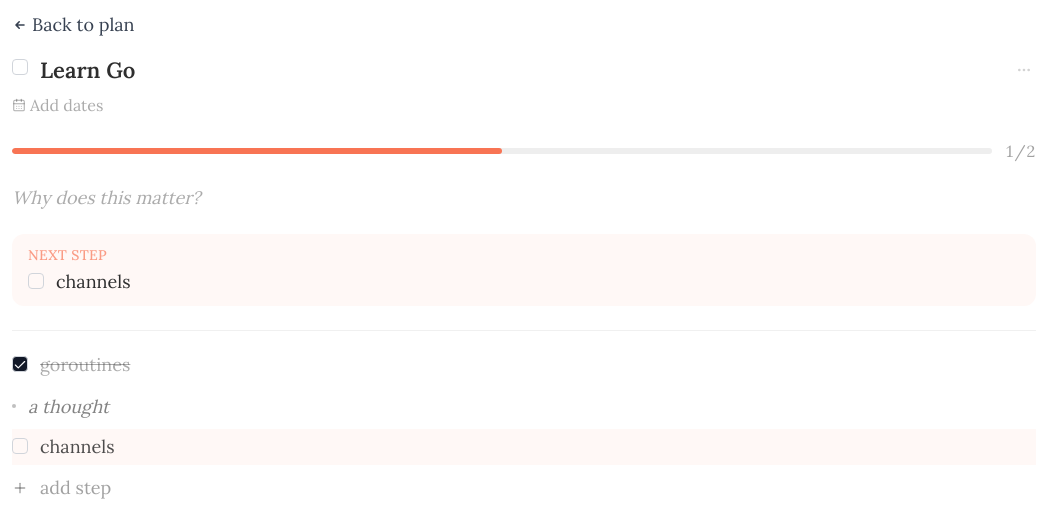
MilestonePage steps and next step › rename (R30) › should save on Enter, and the next-step slot shows the new text too
Click the button "channels" at (77, 446), box left=40, top=435, right=1036, bottom=459
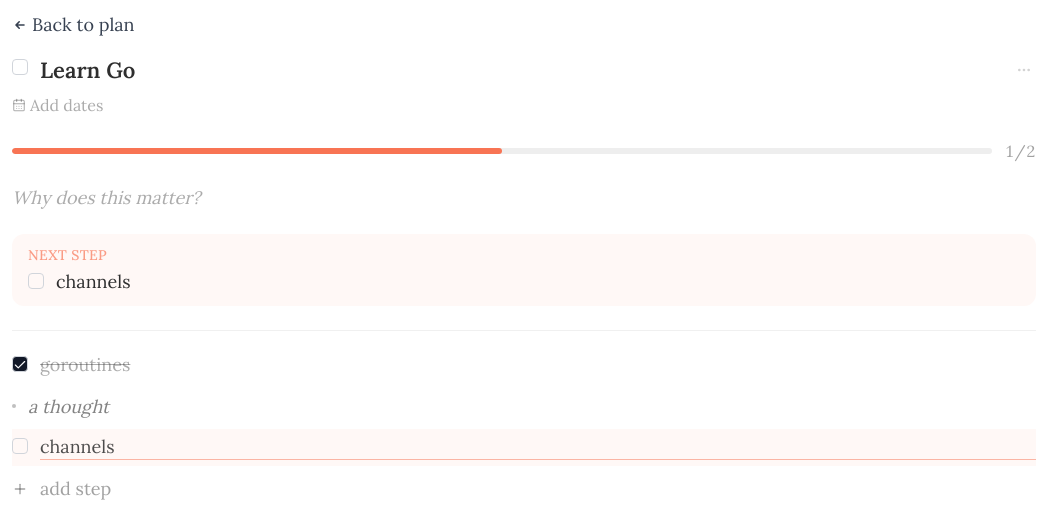
Replace the text in the field named "Rename channels" with "  chans  " at (538, 448), box left=40, top=435, right=1036, bottom=460
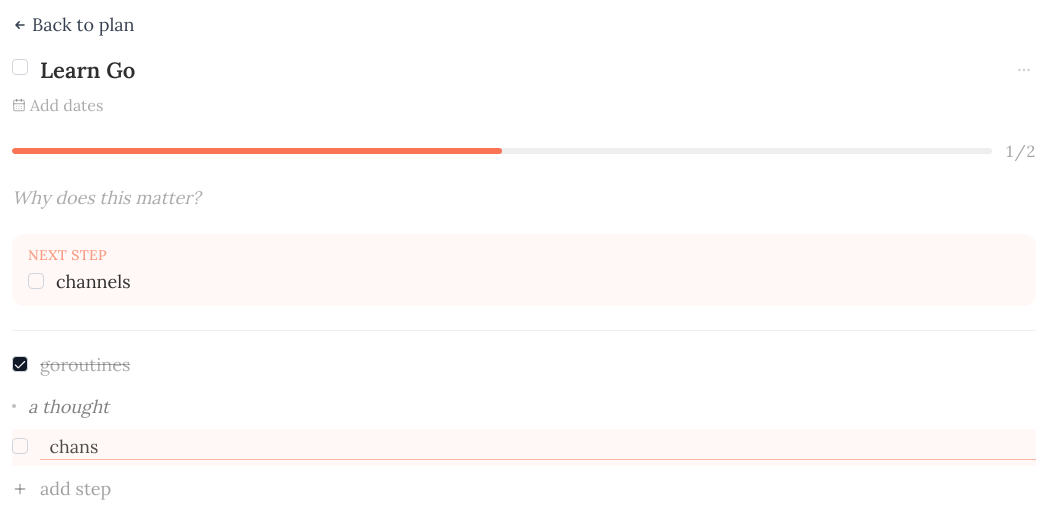
Press Enter in the field named "Rename channels", box left=40, top=435, right=1036, bottom=460
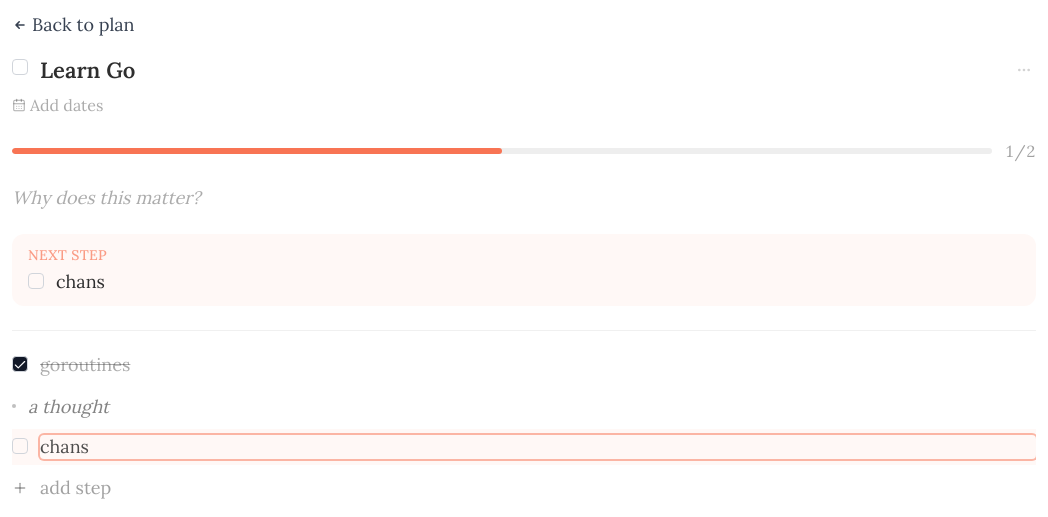
Now the button "chans" is shown, box left=40, top=435, right=1036, bottom=459
Now the text "chans" is shown, box left=56, top=270, right=105, bottom=294
